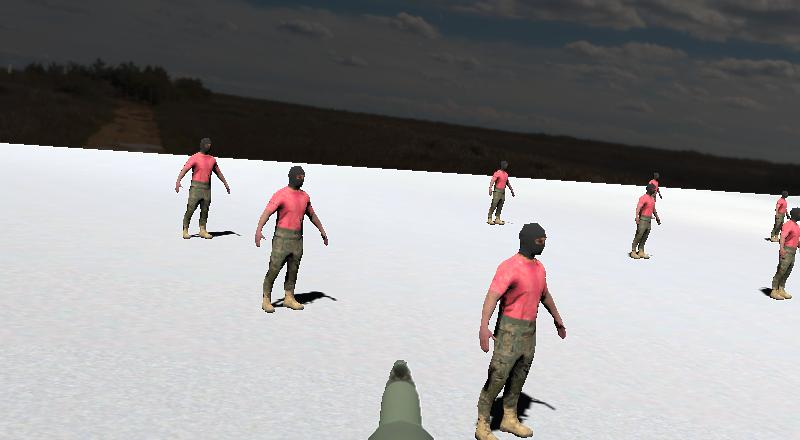Human: (467, 216, 575, 440), (245, 161, 336, 321), (164, 130, 238, 251), (758, 202, 800, 314), (624, 178, 673, 269), (483, 156, 517, 229), (766, 184, 796, 255)
